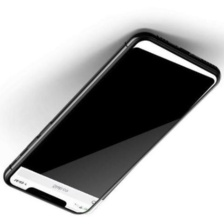phone: (3, 28, 223, 217)
